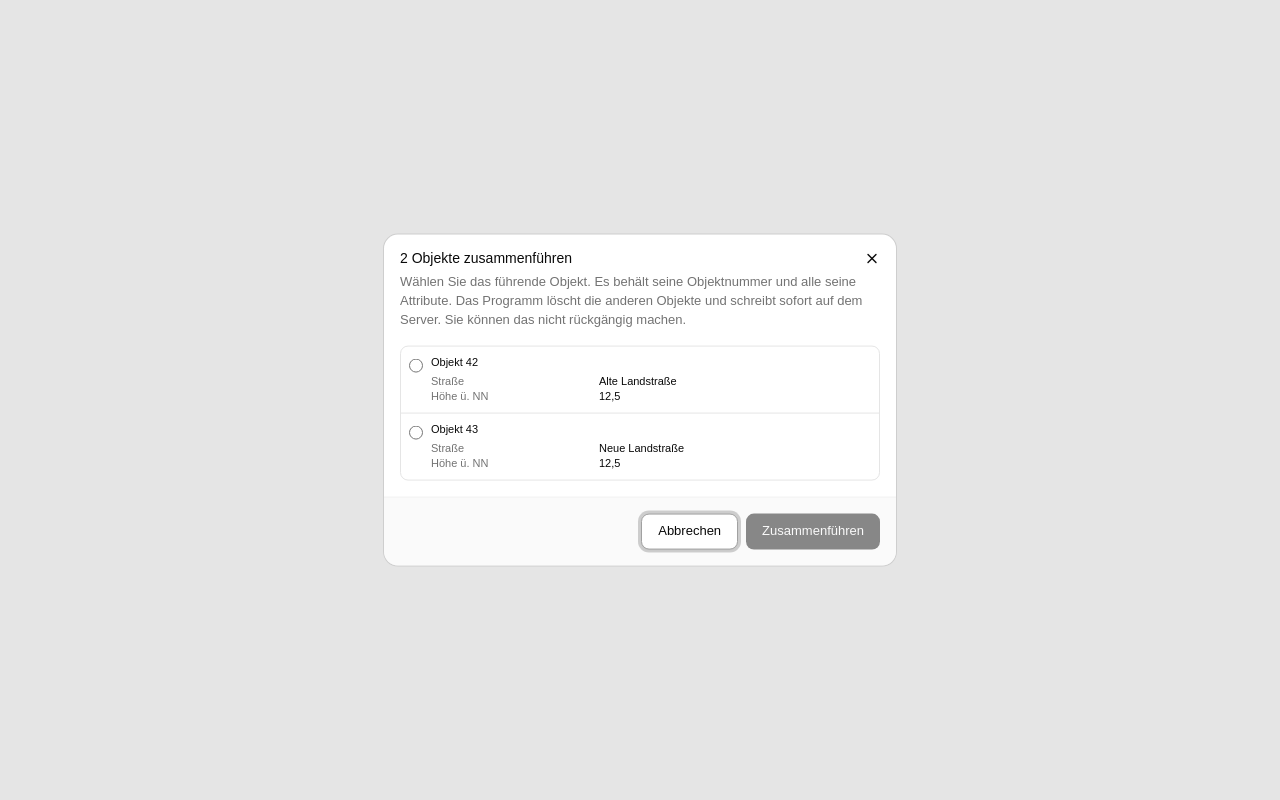
Test: MergeDialog › bleibt gesperrt, bis jemand ein führendes Objekt gewählt hat
Check: the text "Alte Landstraße" is shown, box left=599, top=374, right=677, bottom=386
Check: the button "Zusammenführen" is disabled, box left=746, top=513, right=880, bottom=549
Click the radio button labelled "Objekt 42" at (416, 365), box left=409, top=358, right=423, bottom=372
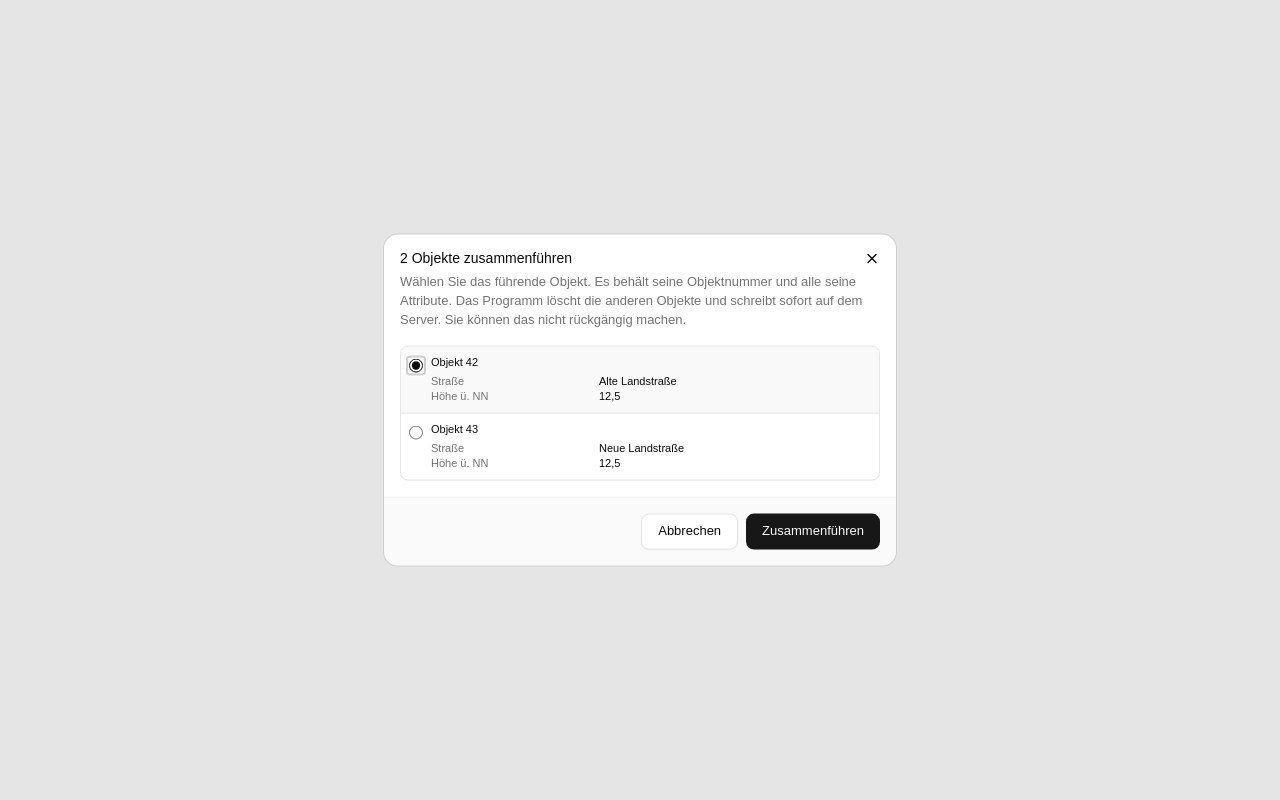
Check: the button "Zusammenführen" is enabled, box left=746, top=513, right=880, bottom=549
